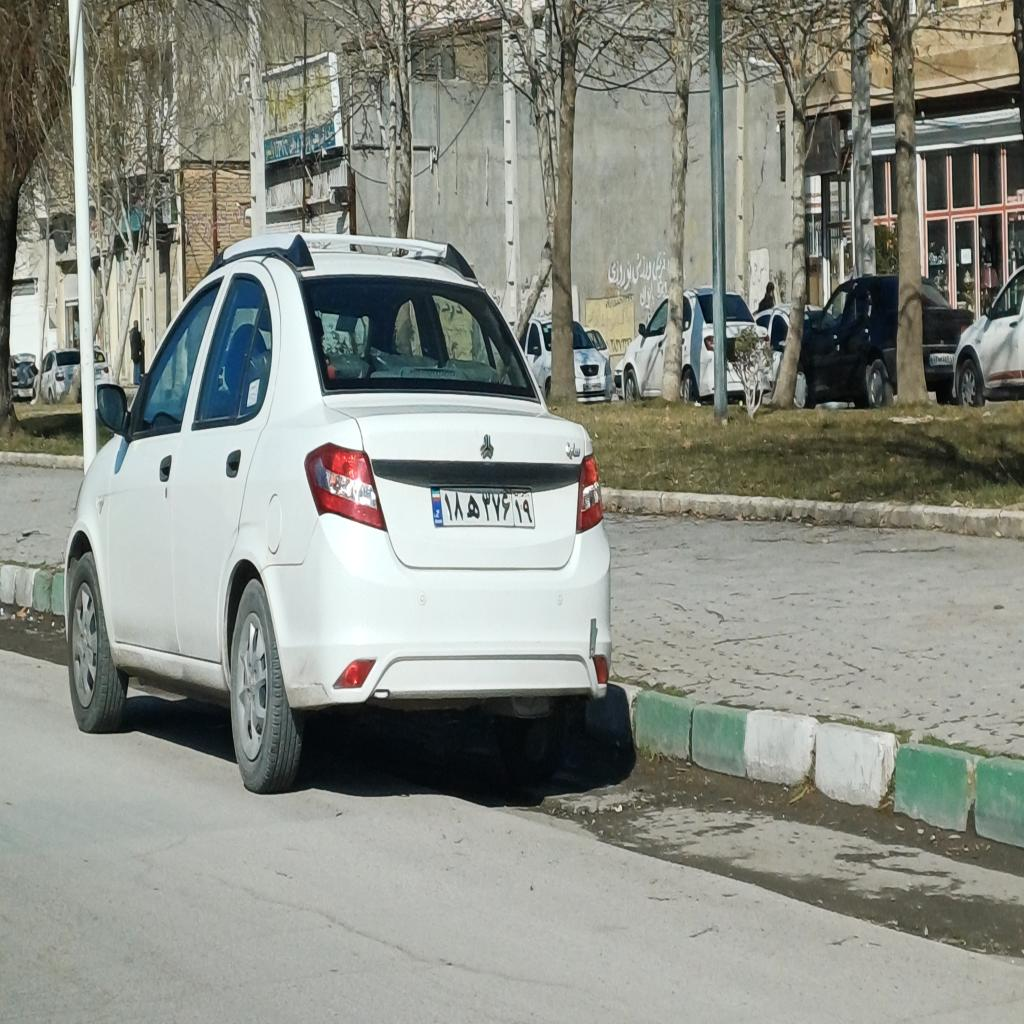Plates: (431, 484, 535, 530)
